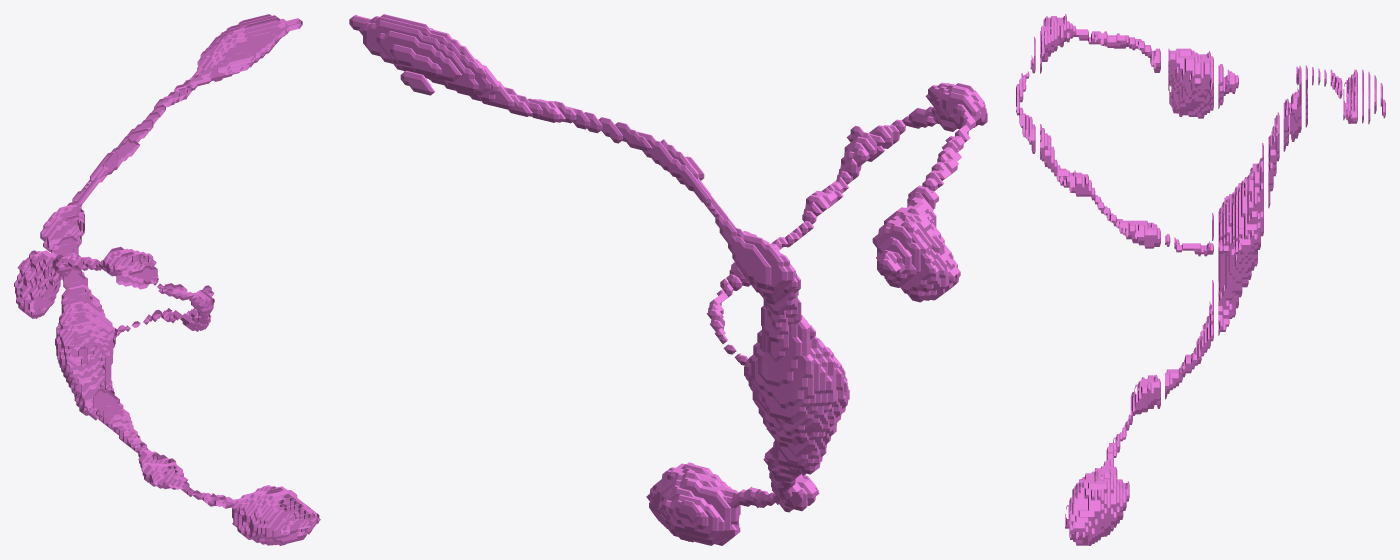
Rendered from SVV_OLLL.gltf.
The picture shows the model from 3 angles, left to right: view 1: azimuth 30°, elevation 25°; view 2: azimuth 150°, elevation 25°; view 3: azimuth 270°, elevation 25°; orthographic projection. The views are drawn at different scales.
Visible parts, largest first — view 1: OLLL; view 2: OLLL; view 3: OLLL.
Part boxes in pixels (<box>): OLLL: <box>14,14,320,545</box>; OLLL: <box>349,14,987,545</box>; OLLL: <box>1016,14,1385,545</box>.
Bounding box in the file's own units: 60945 × 69154 × 45472.
